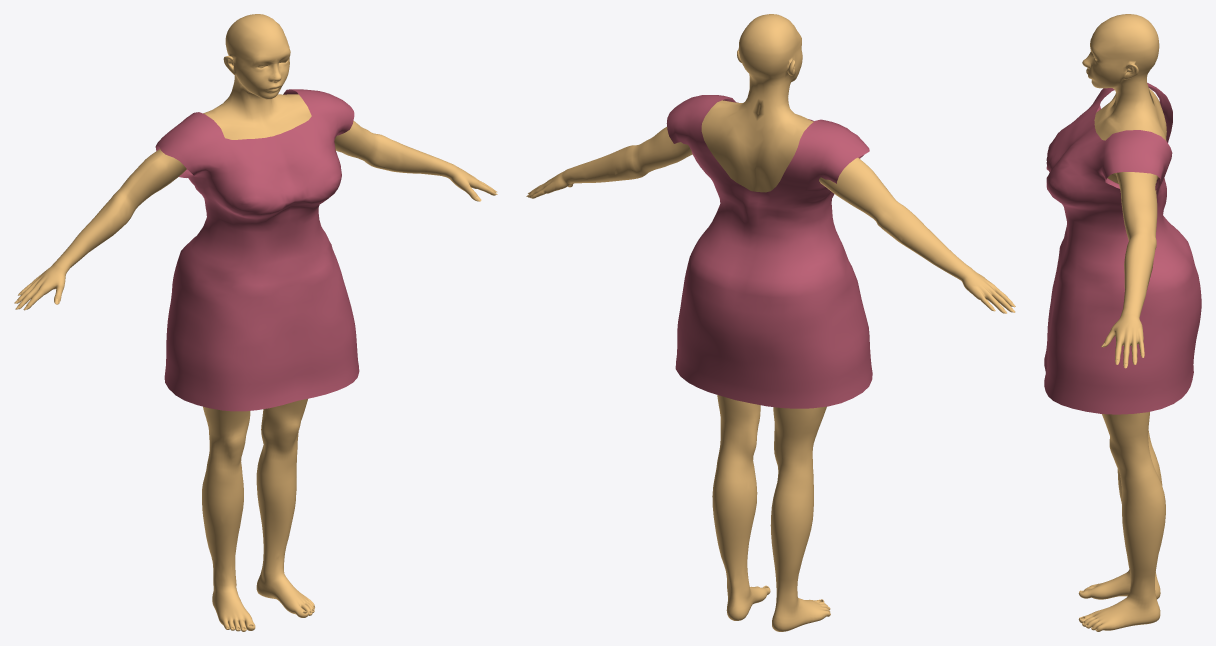
The model's file is dress7.glb.
3 renders of one model, left to right at view 1: azimuth 30°, elevation 25°; view 2: azimuth 150°, elevation 25°; view 3: azimuth 270°, elevation 25°, orthographic.
Parts seen in each view (by area): view 1: Jennifer.F_Dress_01, Body.003; view 2: Jennifer.F_Dress_01, Body.003; view 3: Jennifer.F_Dress_01, Body.003.
Boxes of the visible parts, x1,y1,x2,y2 form: Jennifer.F_Dress_01: [155, 89, 359, 411]; Body.003: [16, 14, 496, 631]; Jennifer.F_Dress_01: [666, 95, 872, 408]; Body.003: [527, 14, 1012, 631]; Jennifer.F_Dress_01: [1044, 82, 1201, 414]; Body.003: [1078, 14, 1166, 631].
Bounding box in the file's own units: 1.58 × 1.85 × 0.4437.
